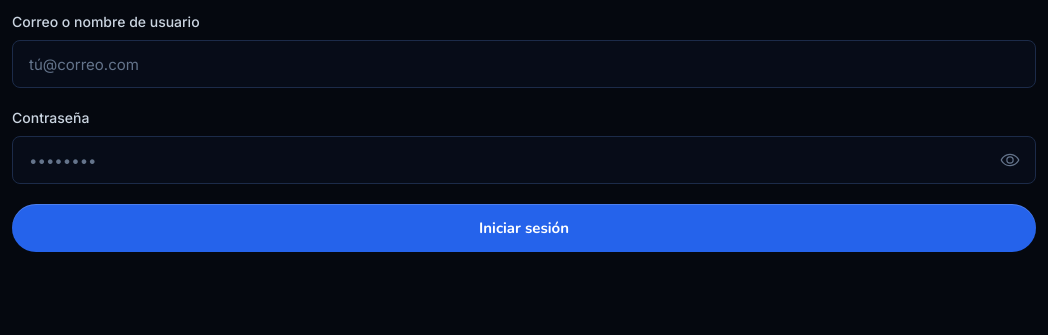
Test: LoginForm › muestra el error del backend y no navega
The width and height of the screenshot is (1048, 335).
In the field labelled "Correo o nombre de usuario": (524, 64) [12, 40, 1036, 88], type "ana@example.com"
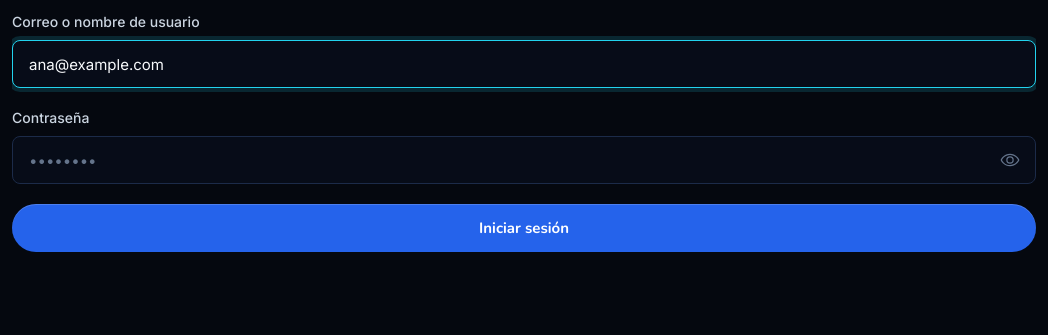
In the password field labelled "Contraseña": (524, 160) [12, 136, 1036, 184], type "ClaveSegura123"
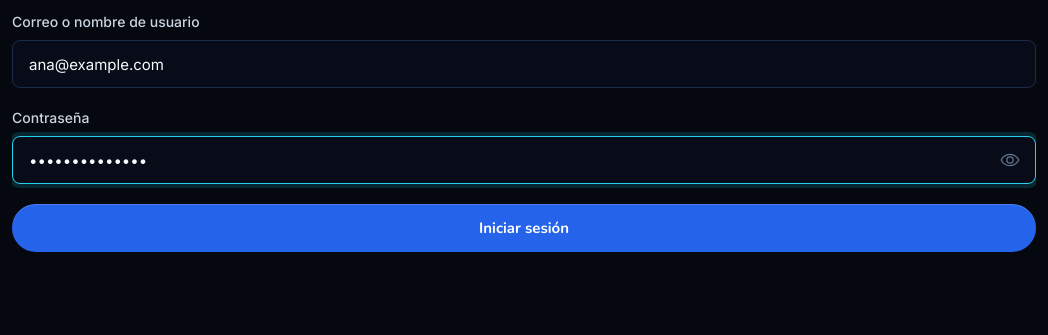
Click the button "Iniciar sesión": (524, 228) [12, 204, 1036, 252]
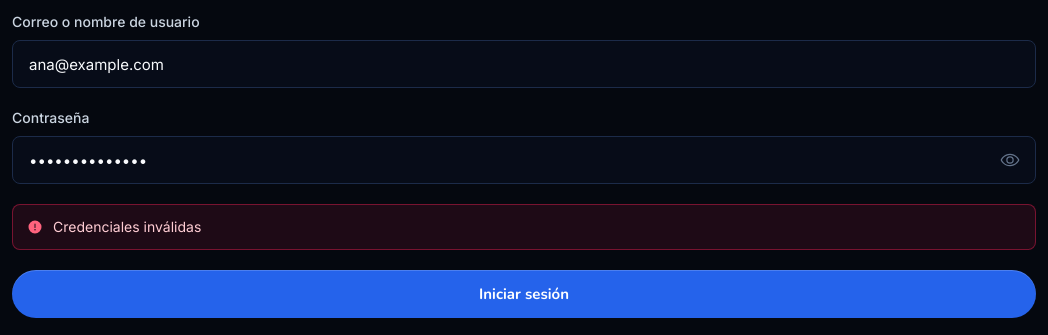
Expected: the button "Iniciar sesión" is enabled, [12, 270, 1036, 318]
Expected: the message reads "Credenciales inválidas", [53, 218, 201, 235]
